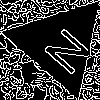N: (34, 19, 95, 77)
